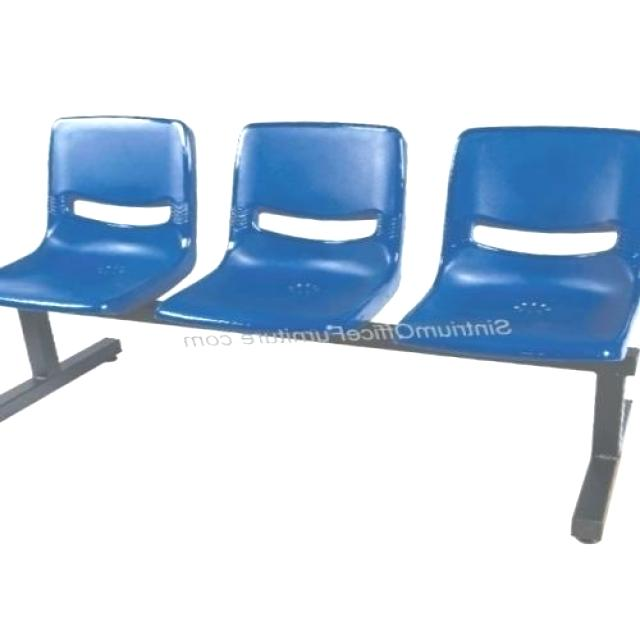Chair: (3, 114, 640, 546)
